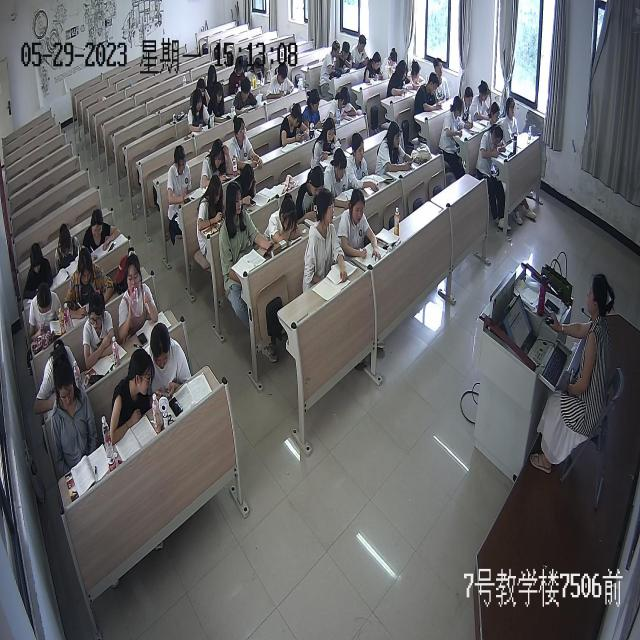distracted: (48, 348, 96, 465), (107, 351, 158, 438), (116, 255, 161, 339), (83, 294, 119, 368), (54, 223, 83, 275), (414, 68, 442, 115), (320, 38, 342, 82), (337, 40, 355, 78)
focused: (306, 190, 351, 284), (339, 190, 384, 268), (66, 250, 116, 315), (227, 114, 267, 178), (21, 242, 58, 304), (83, 207, 123, 260), (349, 130, 379, 198), (310, 115, 344, 169), (199, 171, 226, 238), (324, 146, 352, 210), (298, 162, 326, 221), (267, 63, 298, 108), (235, 72, 260, 119), (441, 94, 464, 145), (472, 81, 496, 125), (431, 56, 452, 105), (378, 50, 402, 88), (387, 57, 410, 96), (209, 81, 229, 122), (361, 51, 383, 88), (350, 34, 371, 71), (459, 85, 475, 130), (249, 56, 265, 87)
sleep: (265, 194, 304, 248)
using_phone: (220, 182, 277, 264), (146, 323, 193, 402), (376, 120, 416, 178), (28, 280, 61, 342), (166, 146, 194, 212), (204, 138, 233, 189), (278, 100, 310, 146), (188, 89, 215, 136), (326, 85, 356, 127), (301, 85, 327, 132), (236, 164, 261, 211), (408, 58, 430, 89)
